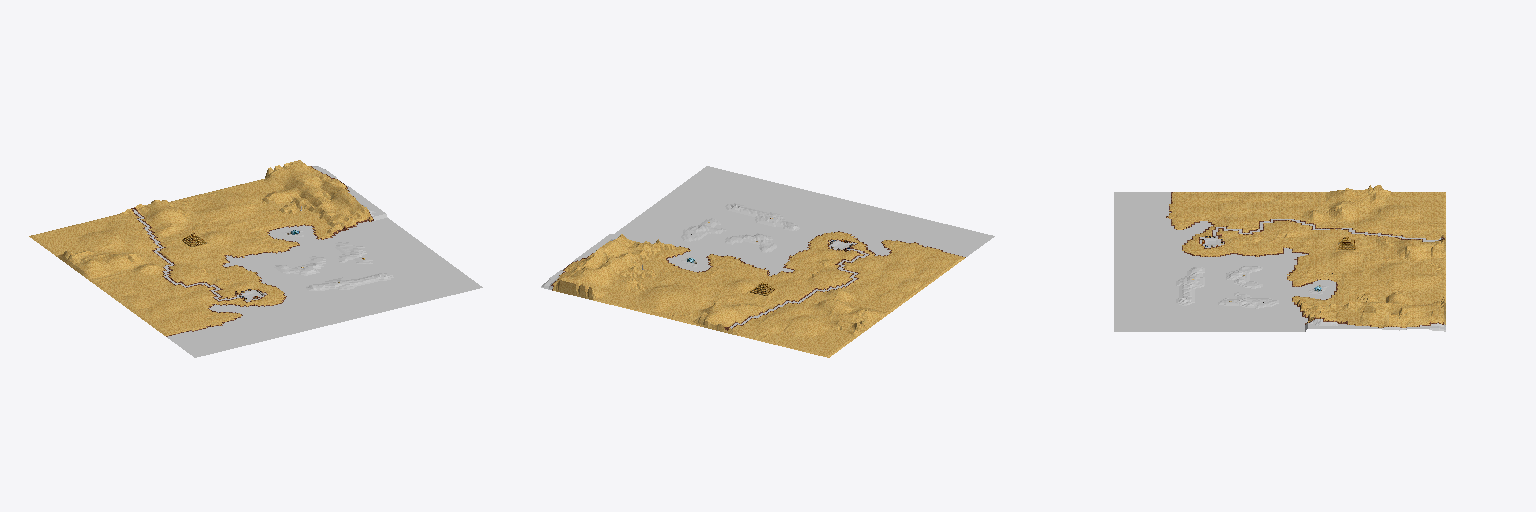
3 views of the same model, side by side, from view 1: azimuth 30°, elevation 25°; view 2: azimuth 150°, elevation 25°; view 3: azimuth 270°, elevation 25° (orthographic).
Parts seen in each view (by area): view 1: _Ground_; view 2: _Ground_; view 3: _Ground_.
Part boxes in pixels (bbox=[...]): _Ground_: bbox=[29, 160, 482, 357]; _Ground_: bbox=[541, 166, 994, 357]; _Ground_: bbox=[1114, 185, 1445, 331].
Size of the model in its own units: 65024 by 2560 by 65024.
110 materials, 67 textured.